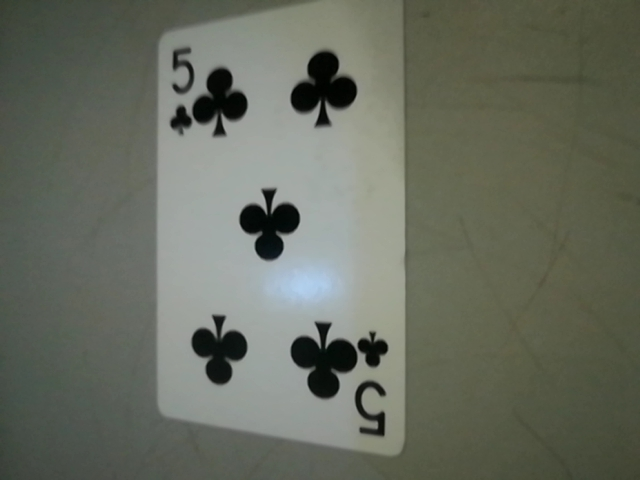mh 5: (354, 322, 401, 447)
